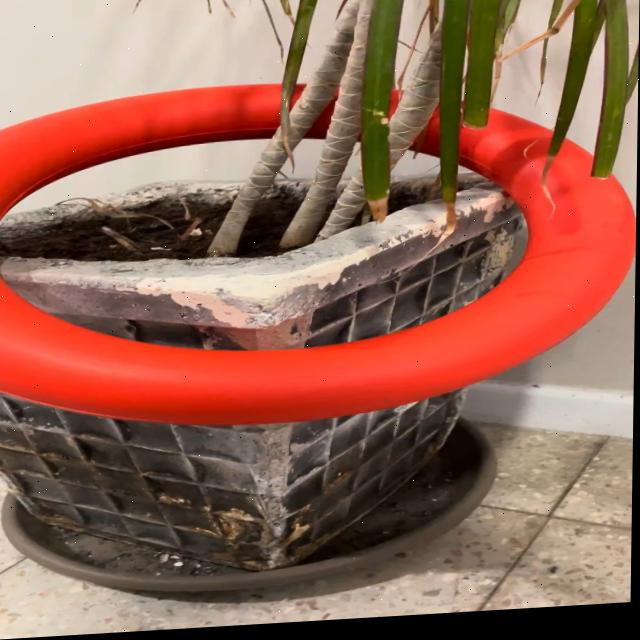note: (0, 67, 636, 441)
